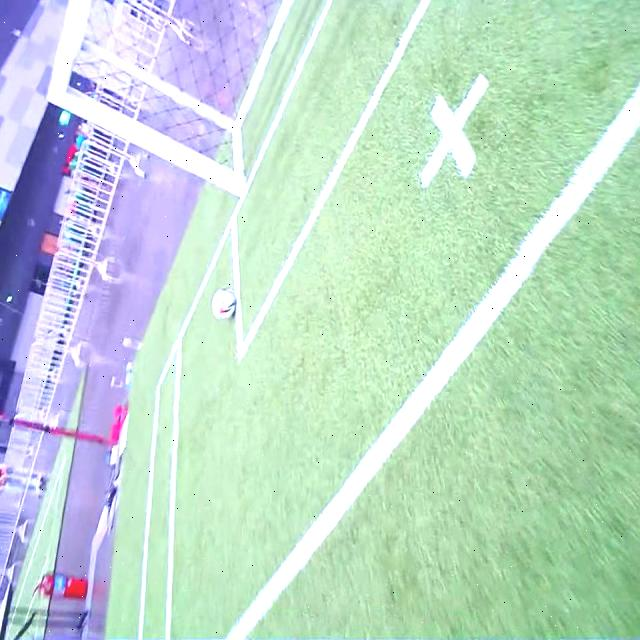ball: (264, 446, 322, 534), (211, 287, 237, 320)
